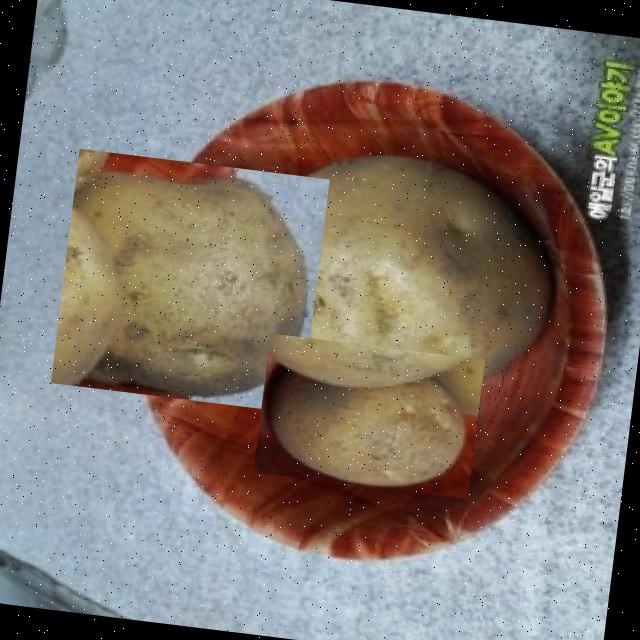Potato: (241, 136, 567, 412), (51, 148, 330, 412), (253, 332, 484, 497)
